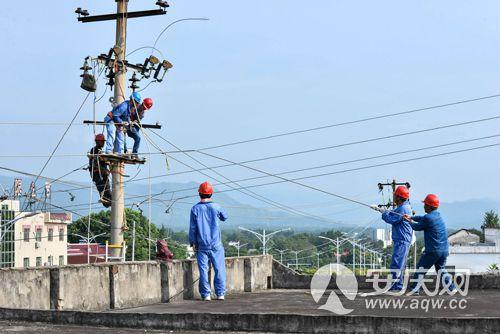helmet: (197, 178, 218, 204), (419, 192, 440, 215), (392, 185, 410, 208), (128, 90, 141, 112), (91, 132, 106, 150), (141, 96, 156, 113)
